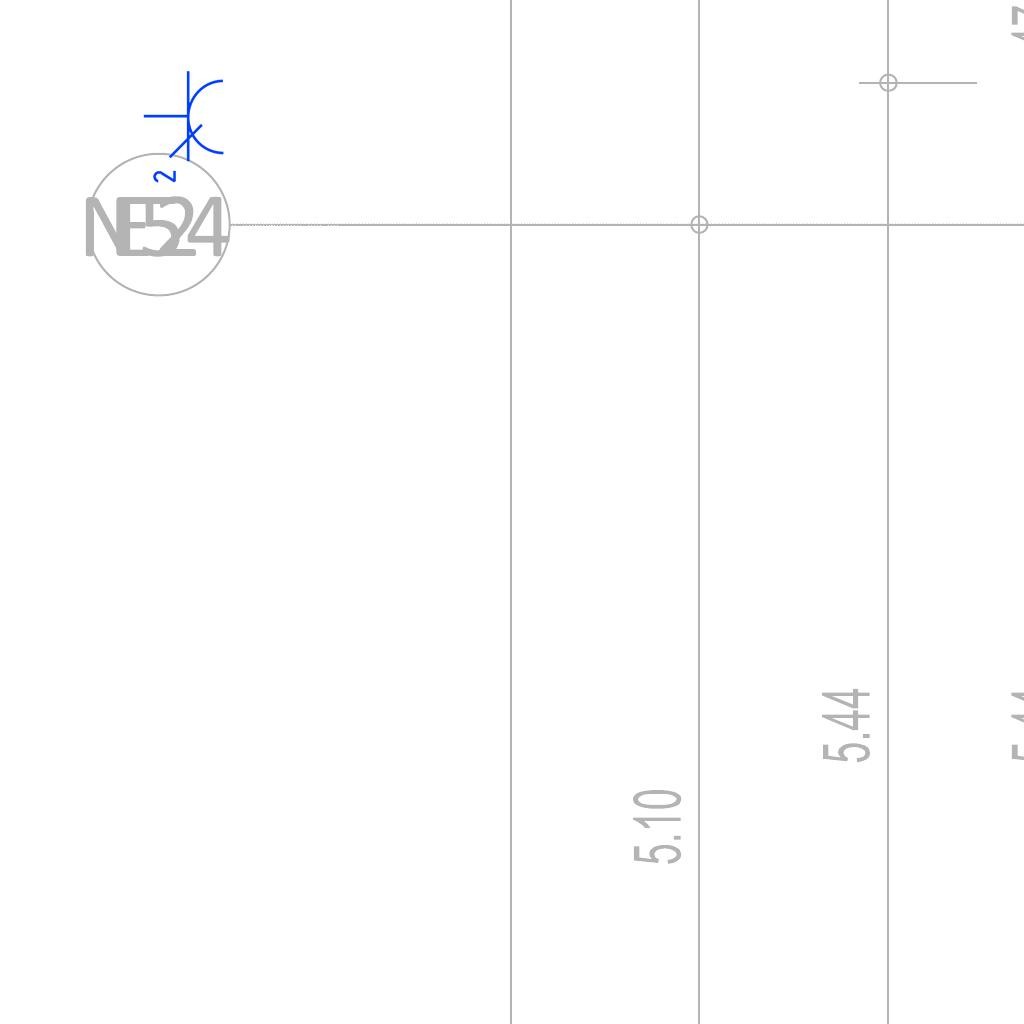Schukosteckdose_mehrfach: (142, 69, 230, 190)
